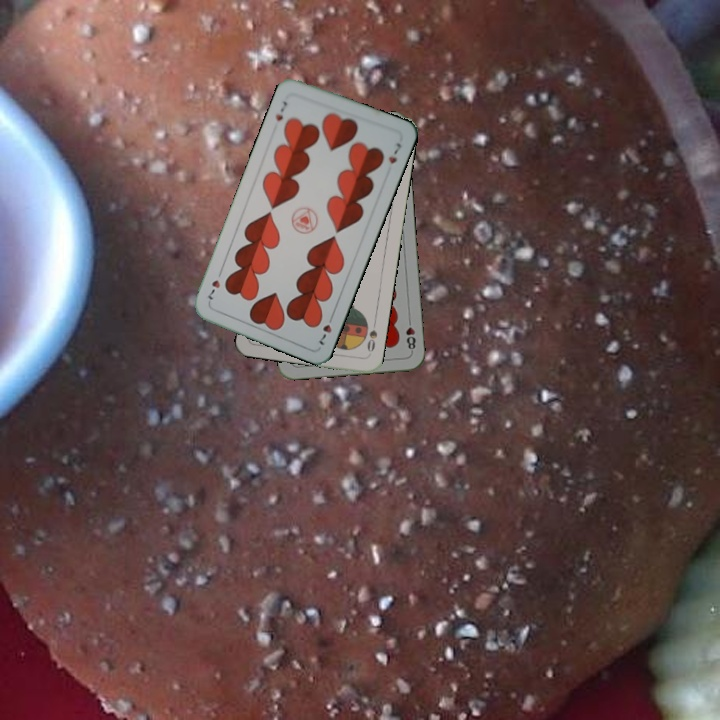H7: (315, 310, 336, 348), (271, 97, 290, 124)
H8: (402, 314, 418, 355)
SO: (363, 318, 380, 358)
